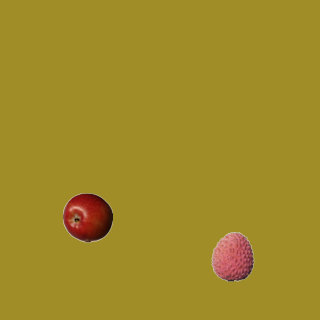Apple Braeburn: (62, 192, 112, 242)
Lychee: (207, 231, 257, 281)
